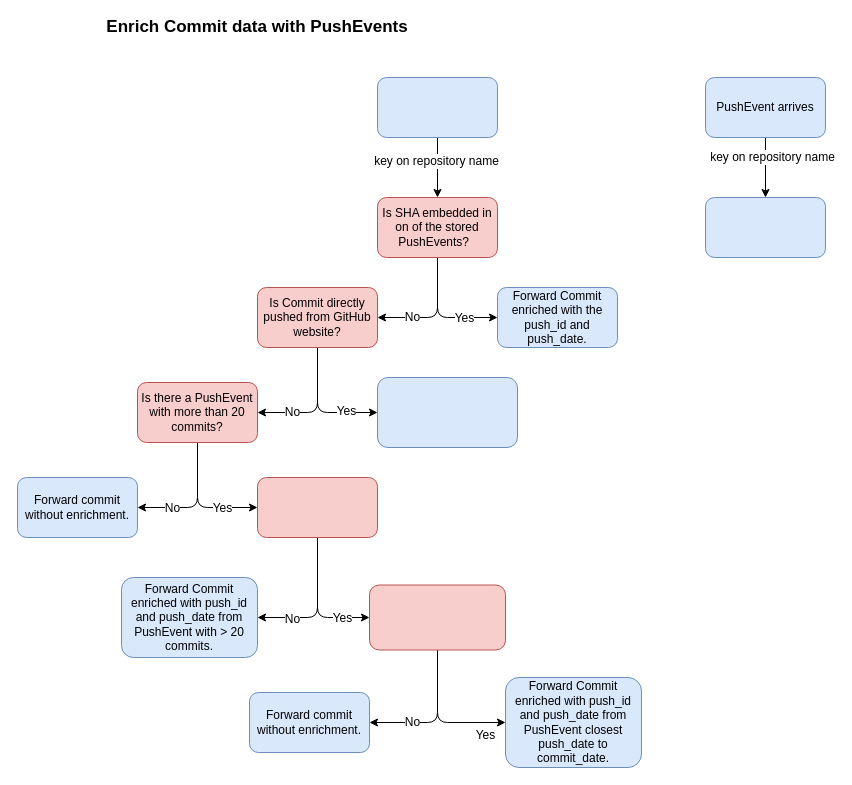
The diagram is 852 pixels wide and 785 high, and some of its shapes have lost their labels. Each missing label, with the box of its shape:
Commit arrives: (376, 76, 498, 138)
Forward Commit enriched without push_id and commit_date as push_date: (376, 376, 518, 448)
Is there a PushEvent with the created_at date after the commit date.: (368, 584, 506, 650)
Is there more than 1 PushEvent with more 20 commits?: (256, 476, 378, 538)
Store PushEvent in state for 1 hour: (704, 196, 826, 258)
